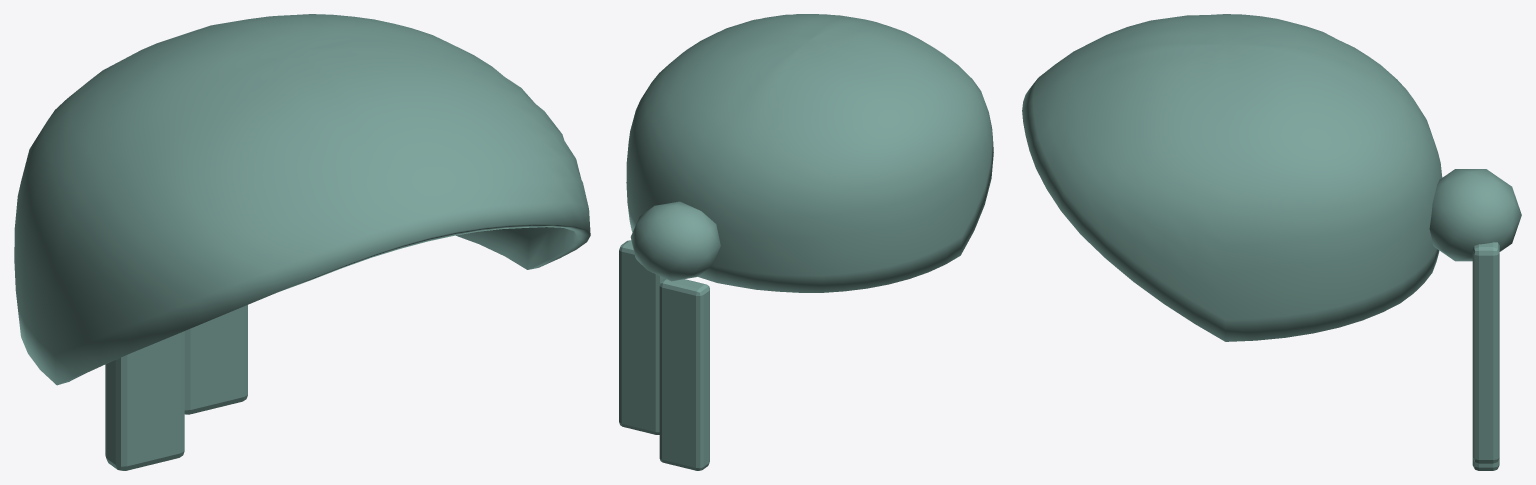
The model's file is headwrap_sage.glb.
3 renders of one model, left to right at view 1: azimuth 30°, elevation 25°; view 2: azimuth 150°, elevation 25°; view 3: azimuth 270°, elevation 25°, orthographic. The views are drawn at different scales.
Parts seen in each view (by area): view 1: headwrap_sage; view 2: headwrap_sage; view 3: headwrap_sage.
Boxes of the visible parts, left/top/right/bottom form: headwrap_sage: left=14, top=14, right=590, bottom=470; headwrap_sage: left=619, top=14, right=993, bottom=470; headwrap_sage: left=1022, top=14, right=1521, bottom=470.
Bounding box in the file's own units: 0.4998 × 0.5302 × 0.5868.
